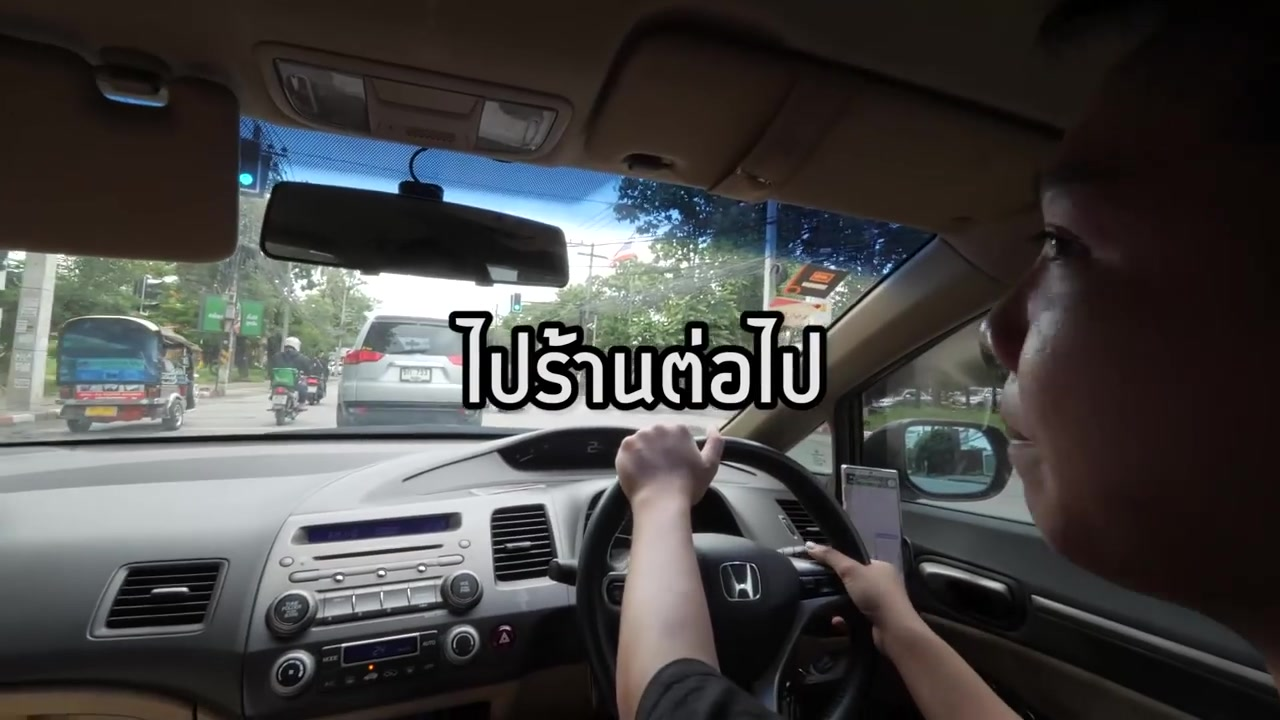text-label: (446, 308, 830, 414)
